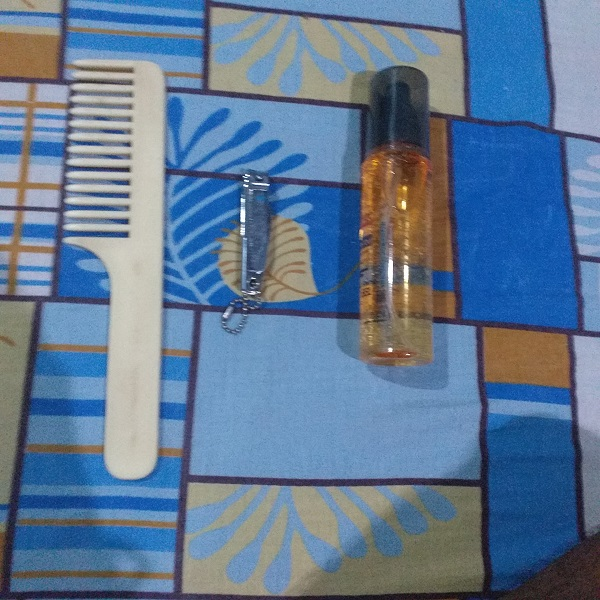comb: (52, 43, 184, 513)
nailcutter: (200, 147, 314, 345)
spray: (345, 59, 472, 379)
